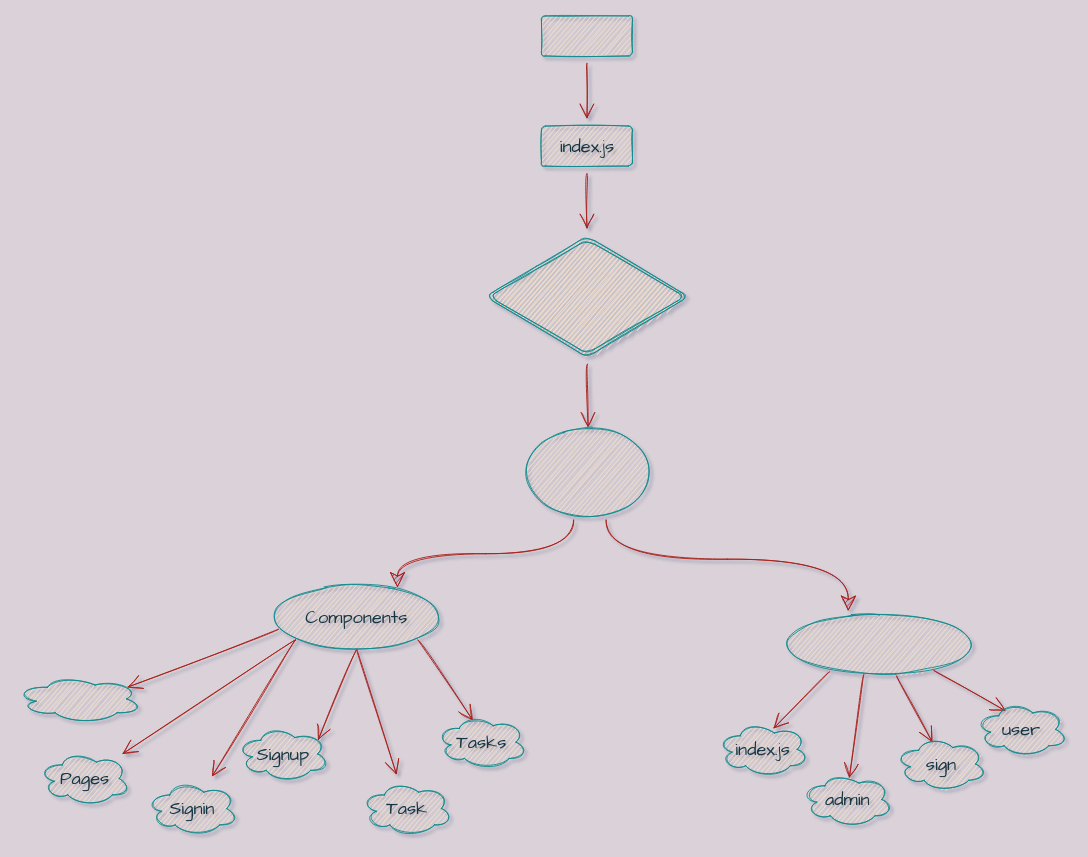
This 1088x857 diagram has some shape labels left out. Here are the shapes that lost their labels. From the top down, the centre of each, then its label:
At [586,35]: "index.html".
At [586,296]: "BrowsserRouter".
At [587,471]: "App".
At [879,644]: "Redusers".
At [78,698]: "Dashboard".
